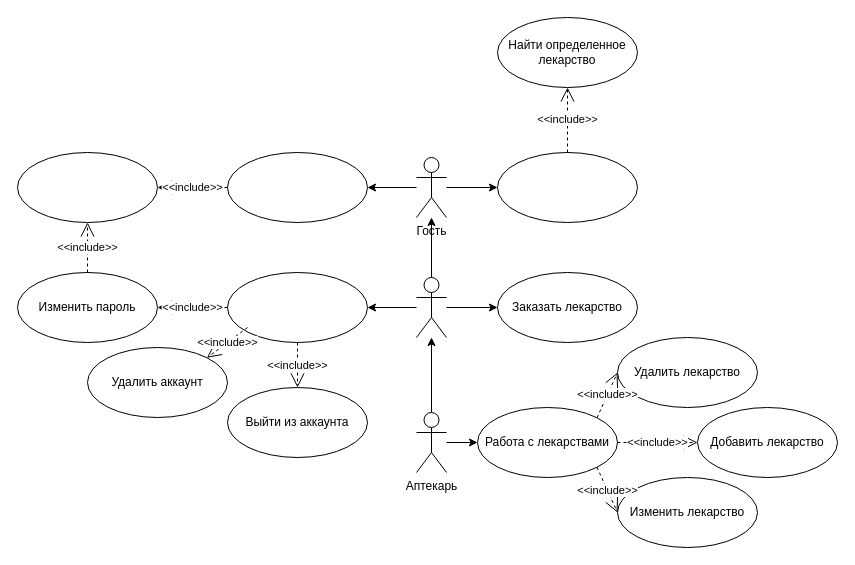
This 855x565 diagram has some shape labels left out. Here are the shapes that lost their labels. From the top down, the box of each, then its label:
(16, 152, 158, 222): Подтверждение номера телефона
(226, 152, 368, 222): Авторизация
(496, 152, 638, 222): Просмотреть список лекарств
(226, 272, 368, 342): Редактировать профиль
(416, 276, 446, 338): Авторизованный
